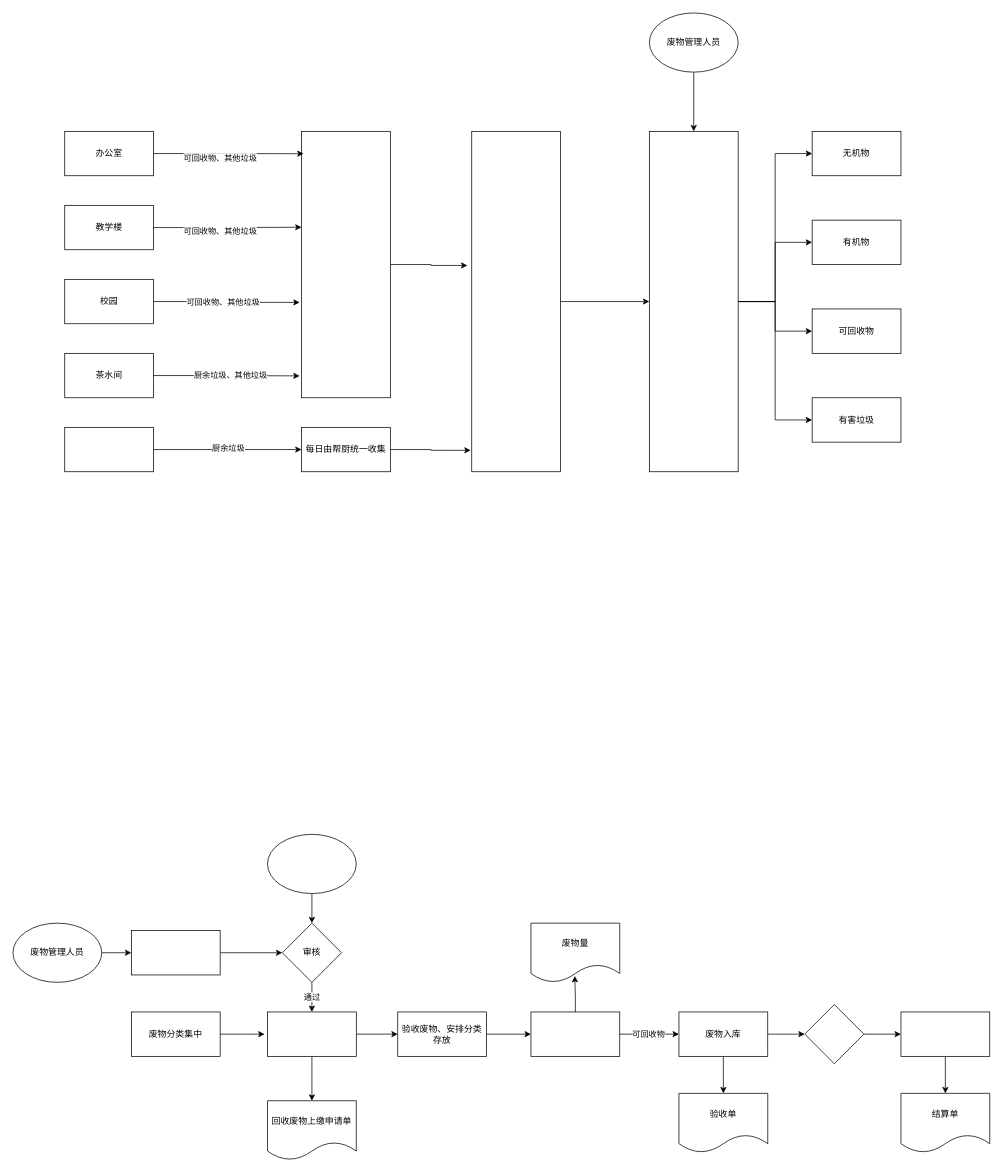
Image size: 1003x1173. Some labels were removed from this diagram. The shapes that lost their labels are listed below. From the top down, each one's box as (x1, y1, x2, y2) in pixels, then its label:
(301, 131, 390, 398): 每日由保洁员统一收集
(471, 131, 561, 472): 存放垃圾分类收集点
(649, 131, 738, 472): 分类处置
(64, 427, 154, 472): 食堂
(267, 834, 356, 894): 学校
(131, 930, 220, 975): 提出废物回收申请
(267, 1011, 356, 1056): 通知回收
(530, 1011, 620, 1056): 计量
(804, 1004, 864, 1064): 提交废物销售申请
(900, 1011, 990, 1056): 废物出库
